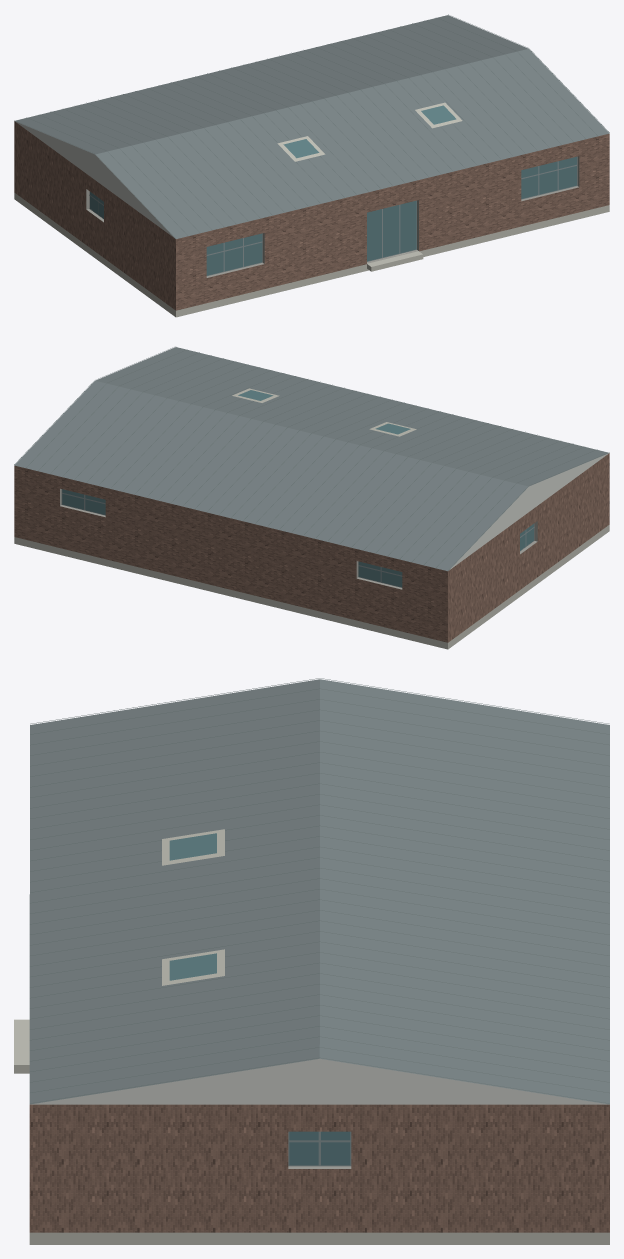
3 renders of one model, top to bottom at view 1: azimuth 30°, elevation 25°; view 2: azimuth 150°, elevation 25°; view 3: azimuth 270°, elevation 25°, orthographic. The views are drawn at different scales.
Visible parts, largest first — view 1: baegun-annex-1__darkServiceRoof, baegun-annex-1__northWorkshop_face2, baegun-annex-1__northWorkshop_face3, baegun-annex-1__darkServiceRoofSeams, baegun-annex-1__northWorkshopBase, baegun-annex-1__northWorkshop_face2_glass, baegun-annex-1__northWorkshop_face2_entry, baegun-annex-1__darkServiceRoofEnd, baegun-annex-1__frame, baegun-annex-1__roofLights, baegun-annex-1__reveal, baegun-annex-1__photoRoofLightFrame (+1 smaller); view 2: baegun-annex-1__darkServiceRoof, baegun-annex-1__northWorkshop_face0, baegun-annex-1__northWorkshop_face3, baegun-annex-1__darkServiceRoofSeams, baegun-annex-1__northWorkshopBase, baegun-annex-1__darkServiceRoofEnd, baegun-annex-1__northWorkshop_face0_glass, baegun-annex-1__frame, baegun-annex-1__roofLights, baegun-annex-1__reveal, baegun-annex-1__photoRoofLightFrame; view 3: baegun-annex-1__darkServiceRoof, baegun-annex-1__northWorkshop_face1, baegun-annex-1__darkServiceRoofSeams, baegun-annex-1__darkServiceRoofEnd, baegun-annex-1__northWorkshopBase, baegun-annex-1__northWorkshop_face1_glass, baegun-annex-1__roofLights, baegun-annex-1__photoRoofLightFrame, baegun-annex-1__entranceThreshold_0.
Boxes of the visible parts, x1,y1,x2,y2 form: baegun-annex-1__darkServiceRoof: (15, 15, 609, 238); baegun-annex-1__northWorkshop_face2: (176, 133, 609, 310); baegun-annex-1__northWorkshop_face3: (14, 121, 175, 310); baegun-annex-1__darkServiceRoofSeams: (14, 14, 609, 238); baegun-annex-1__northWorkshopBase: (14, 193, 609, 317); baegun-annex-1__northWorkshop_face2_glass: (206, 156, 576, 275); baegun-annex-1__northWorkshop_face2_entry: (367, 200, 416, 261); baegun-annex-1__darkServiceRoofEnd: (15, 121, 175, 238); baegun-annex-1__frame: (89, 156, 577, 276); baegun-annex-1__roofLights: (283, 105, 456, 158); baegun-annex-1__reveal: (86, 156, 579, 277); baegun-annex-1__photoRoofLightFrame: (277, 102, 462, 161); baegun-annex-1__darkServiceRoof: (14, 347, 608, 571); baegun-annex-1__northWorkshop_face0: (14, 465, 447, 642); baegun-annex-1__northWorkshop_face3: (448, 453, 609, 642); baegun-annex-1__darkServiceRoofSeams: (14, 346, 609, 570); baegun-annex-1__northWorkshopBase: (14, 525, 609, 649); baegun-annex-1__darkServiceRoofEnd: (449, 453, 608, 570); baegun-annex-1__northWorkshop_face0_glass: (62, 489, 402, 587); baegun-annex-1__frame: (61, 489, 534, 587); baegun-annex-1__roofLights: (238, 390, 410, 434); baegun-annex-1__reveal: (60, 488, 537, 589); baegun-annex-1__photoRoofLightFrame: (232, 388, 416, 436); baegun-annex-1__darkServiceRoof: (29, 679, 609, 1104); baegun-annex-1__northWorkshop_face1: (29, 1104, 609, 1232); baegun-annex-1__darkServiceRoofSeams: (29, 678, 609, 1103); baegun-annex-1__darkServiceRoofEnd: (30, 1059, 608, 1104); baegun-annex-1__northWorkshopBase: (29, 1232, 609, 1244); baegun-annex-1__northWorkshop_face1_glass: (289, 1131, 350, 1165); baegun-annex-1__roofLights: (169, 833, 216, 980); baegun-annex-1__photoRoofLightFrame: (162, 829, 224, 985); baegun-annex-1__entranceThreshold_0: (14, 1019, 29, 1073).
Size of the model in its own units: 28.45 by 6.54 by 18.86.
Materials: 8 (1 with a texture image).
